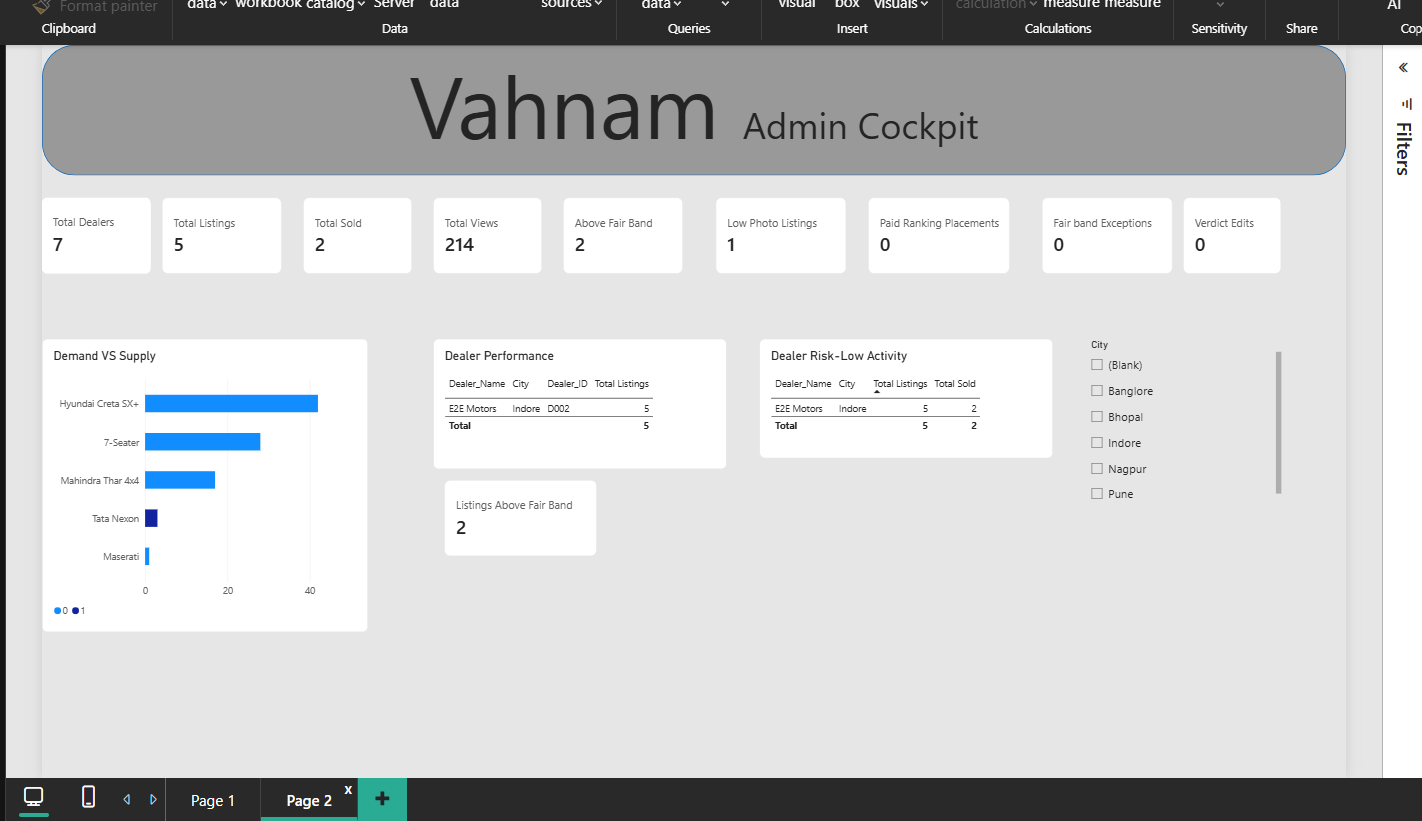

The dashboard page shown, as its layout file describes it:
{"tool":"powerbi","page":{"name":"Page 2","canvas":[1920,1080],"ordinal":1},"visuals":[{"type":"shape","box":[0,0,1920,192],"z":0},{"type":"textbox","box":[0,0,1920,192],"z":1},{"type":"cardVisual","fields":{"Data":["Buyer_Searches.Active Dealers"]},"box":[0,224,160,112],"z":2},{"type":"cardVisual","fields":{"Data":["Buyer_Searches.Total Listings"]},"box":[176,224,176,112],"z":3},{"type":"cardVisual","fields":{"Data":["Buyer_Searches.Total Sold"]},"box":[384,224,160,112],"z":4},{"type":"cardVisual","fields":{"Data":["Listings.Total Views"]},"box":[576,224,160,112],"z":5},{"type":"barChart","title":"Demand VS Supply","fields":{"Category":["Buyer_Searches.Requirement"],"Series":["Buyer_Searches.Supply"],"Y":["Sum(Buyer_Searches.Searches)"]},"box":[0,432,480,432],"z":6},{"type":"tableEx","title":"Dealer Performance","fields":{"Values":["Dealers.Dealer_Name","Dealers.City","Dealers.Dealer_ID","Buyer_Searches.Total Listings"]},"box":[576,432,432,192],"z":7},{"type":"cardVisual","fields":{"Data":["Buyer_Searches.Above Fair Band"]},"box":[768,224,176,112],"z":8},{"type":"cardVisual","fields":{"Data":["Buyer_Searches.Low Photo Listings"]},"box":[992,224,192,112],"z":9},{"type":"tableEx","title":"Dealer Risk-Low Activity","fields":{"Values":["Dealers.Dealer_Name","Dealers.City","Buyer_Searches.Total Listings","Buyer_Searches.Total Sold"]},"box":[1056,432,432,176],"z":10},{"type":"cardVisual","fields":{"Data":["Buyer_Searches.Paid Ranking Placements"]},"box":[1216,224,208,112],"z":11},{"type":"cardVisual","fields":{"Data":["Buyer_Searches.Fair band Exceptions"]},"box":[1472,224,192,112],"z":12},{"type":"cardVisual","fields":{"Data":["Buyer_Searches.Verdict Edits"]},"box":[1680,224,144,112],"z":13},{"type":"slicer","fields":{"Values":["Dealers.City"]},"box":[1536,432,288,240],"z":14}]}

Visuals, with their boxes on the page's 1920x1080 design canvas (x1, y1, x2, y2). These are canvas units, not pixel positions in the 1422x821 screenshot, which may show the page scaled, cropped or inside an application window:
shape: BBox(0, 0, 1920, 192)
textbox: BBox(0, 0, 1920, 192)
cardVisual - Buyer_Searches.Active Dealers: BBox(0, 224, 160, 336)
cardVisual - Buyer_Searches.Total Listings: BBox(176, 224, 352, 336)
cardVisual - Buyer_Searches.Total Sold: BBox(384, 224, 544, 336)
cardVisual - Listings.Total Views: BBox(576, 224, 736, 336)
"Demand VS Supply" barChart: BBox(0, 432, 480, 864)
"Dealer Performance" tableEx: BBox(576, 432, 1008, 624)
cardVisual - Buyer_Searches.Above Fair Band: BBox(768, 224, 944, 336)
cardVisual - Buyer_Searches.Low Photo Listings: BBox(992, 224, 1184, 336)
"Dealer Risk-Low Activity" tableEx: BBox(1056, 432, 1488, 608)
cardVisual - Buyer_Searches.Paid Ranking Placements: BBox(1216, 224, 1424, 336)
cardVisual - Buyer_Searches.Fair band Exceptions: BBox(1472, 224, 1664, 336)
cardVisual - Buyer_Searches.Verdict Edits: BBox(1680, 224, 1824, 336)
slicer - Dealers.City: BBox(1536, 432, 1824, 672)
